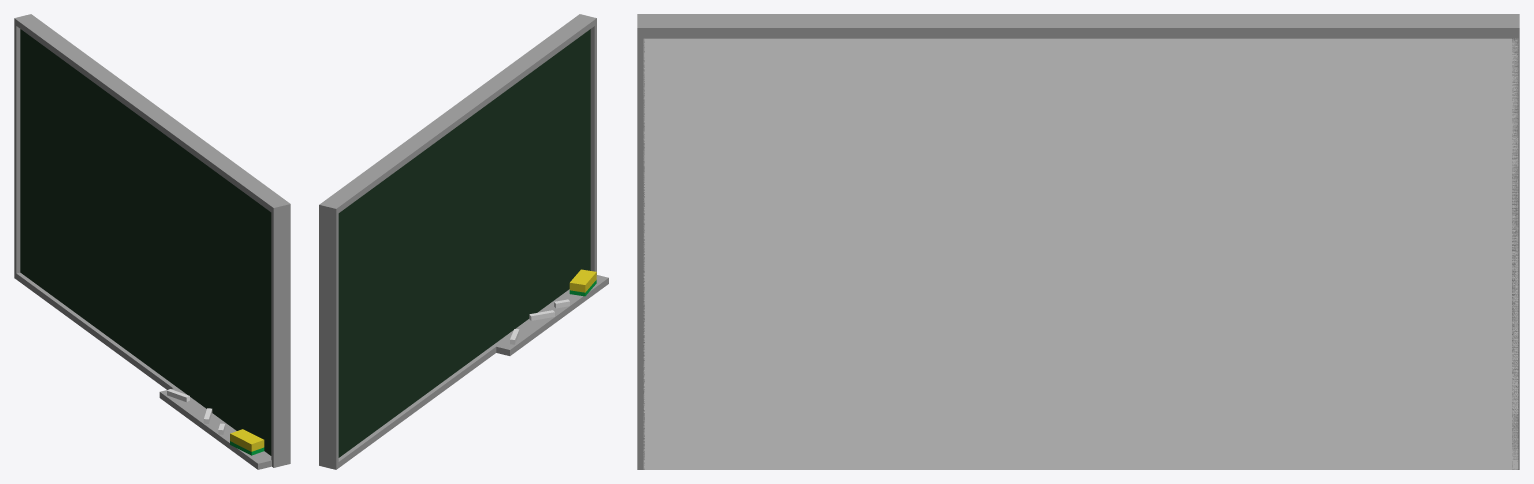
File: tablica-zielona.gltf
3 renders of one model, left to right at view 1: azimuth 30°, elevation 25°; view 2: azimuth 150°, elevation 25°; view 3: azimuth 270°, elevation 25°, orthographic. The views are drawn at different scales.
Parts seen in each view (by area): view 1: cube (×7); view 2: cube (×7); view 3: cube (×5).
Boxes of the visible parts, <box> form: cube (×7): <box>14,14,290,469</box>; cube (×7): <box>319,14,608,469</box>; cube (×5): <box>637,14,1519,469</box>.
Bounding box in the file's own units: 0.0789 × 0.5922 × 1.07.
1 material, 1 textured.
